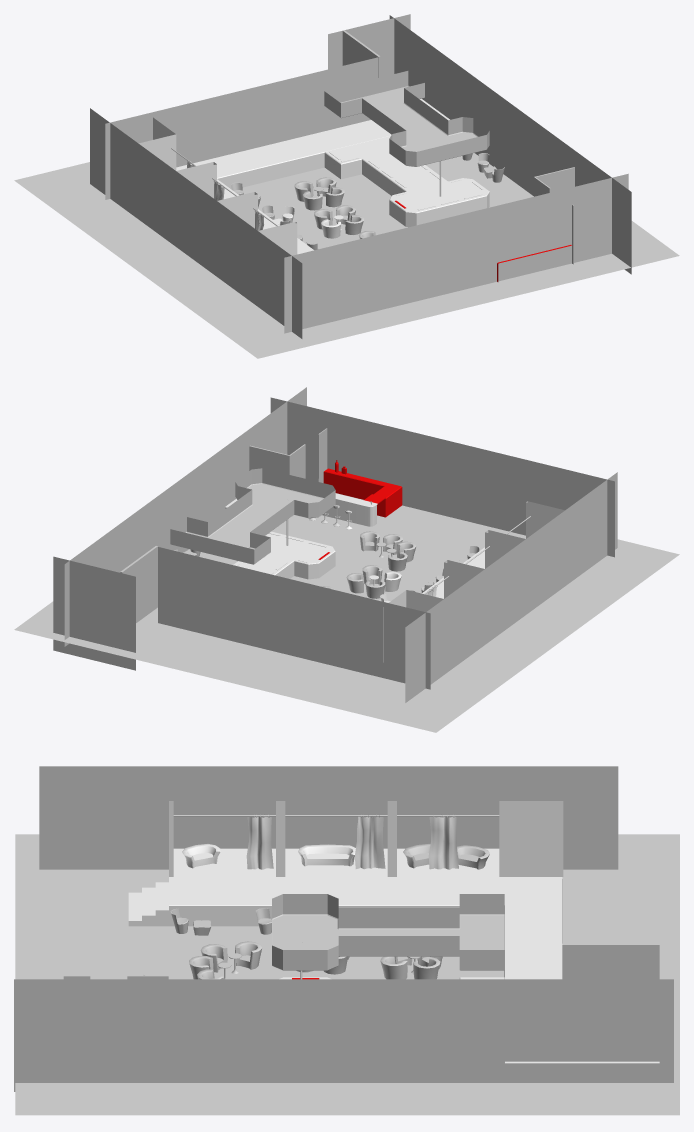
File: escenafinal3.FBX
3 views of the same model, one above another, from view 1: azimuth 30°, elevation 25°; view 2: azimuth 150°, elevation 25°; view 3: azimuth 270°, elevation 25° (orthographic). The views are drawn at different scales.
Visible parts, largest first — view 1: Plane007, Plane001, Plane005, Plane006, Box002, Box009, Box001, Plane008, Box010, Object013; view 2: Plane001, Plane007, Plane006, Plane005, Box009, Plane008, Box001 (×2), Box002, Object011, Box010, Object013; view 3: Plane007, Plane001, Plane005, Box002, Box009, Object013, Plane004, Plane003, Plane002, Object008, Object007, Object010 (+3 smaller).
Part boxes in pixels (x1,y1,x2,y2): Plane007: (284, 15, 631, 333); Plane001: (14, 153, 679, 358); Plane005: (90, 108, 302, 338); Plane006: (105, 57, 378, 199); Box002: (138, 98, 449, 255); Box009: (324, 70, 489, 166); Box001: (324, 136, 489, 227); Plane008: (328, 14, 410, 77); Box010: (534, 167, 574, 264); Object013: (342, 30, 380, 77); Plane001: (14, 493, 679, 732); Plane007: (64, 387, 614, 646); Plane006: (158, 547, 430, 689); Plane005: (405, 472, 617, 702); Box009: (170, 468, 335, 564); Plane008: (53, 556, 135, 670); Box001 (×2): (233, 493, 377, 579); Box002: (383, 501, 564, 662); Object011: (323, 468, 402, 517); Box010: (249, 428, 327, 482); Object013: (120, 546, 157, 622); Plane007: (14, 979, 673, 1091); Plane001: (15, 834, 679, 1115); Plane005: (39, 766, 618, 869); Box002: (128, 801, 659, 1063); Box009: (272, 894, 504, 970); Object013: (562, 943, 659, 979); Plane004: (428, 816, 458, 869); Plane003: (354, 816, 385, 869); Plane002: (246, 816, 273, 869); Object008: (298, 844, 355, 866); Object007: (182, 844, 220, 868); Object010: (457, 845, 489, 869).
Bounding box in the file's own units: 781 × 167 × 783.
